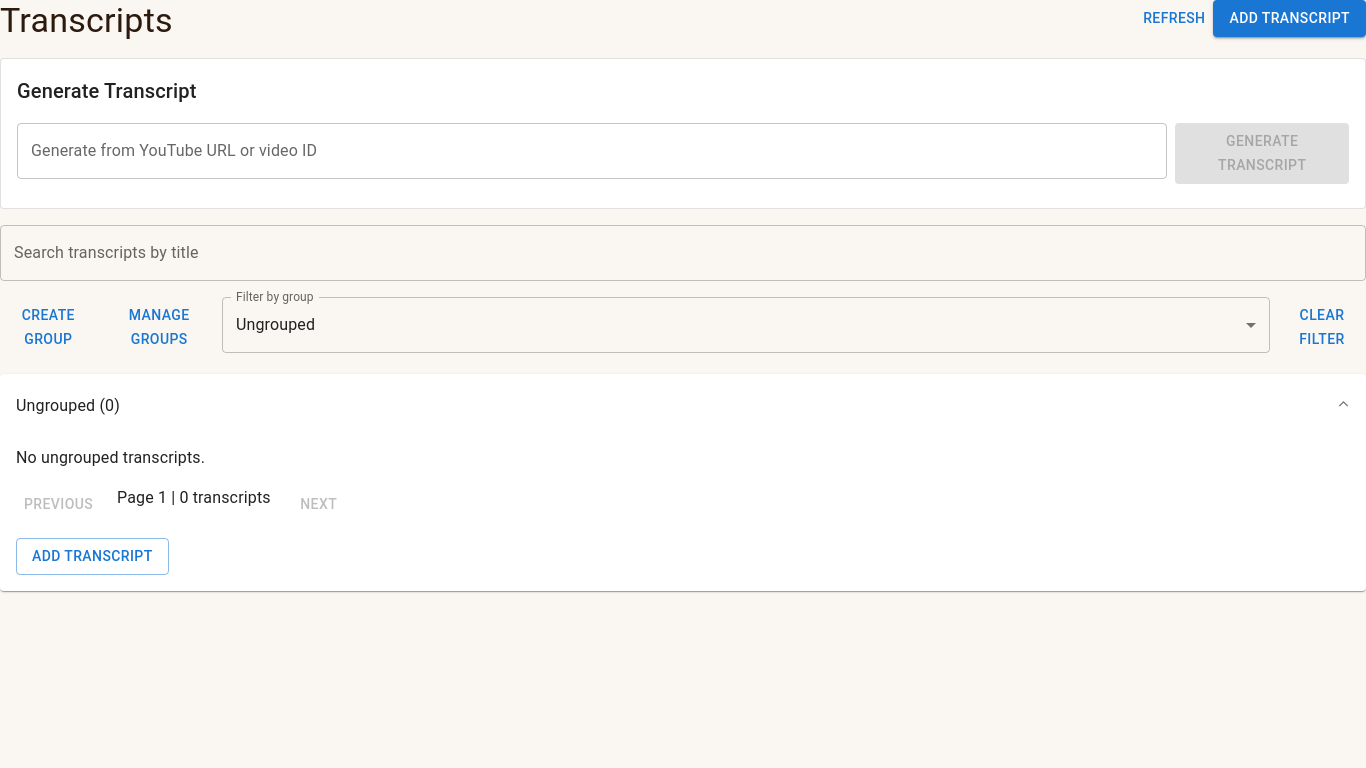
Test: places duration formats below the input and exposes help by tap
Step 1. Click the 1st button "Add Transcript" → click(1290, 18), box [1214, 0, 1365, 36]
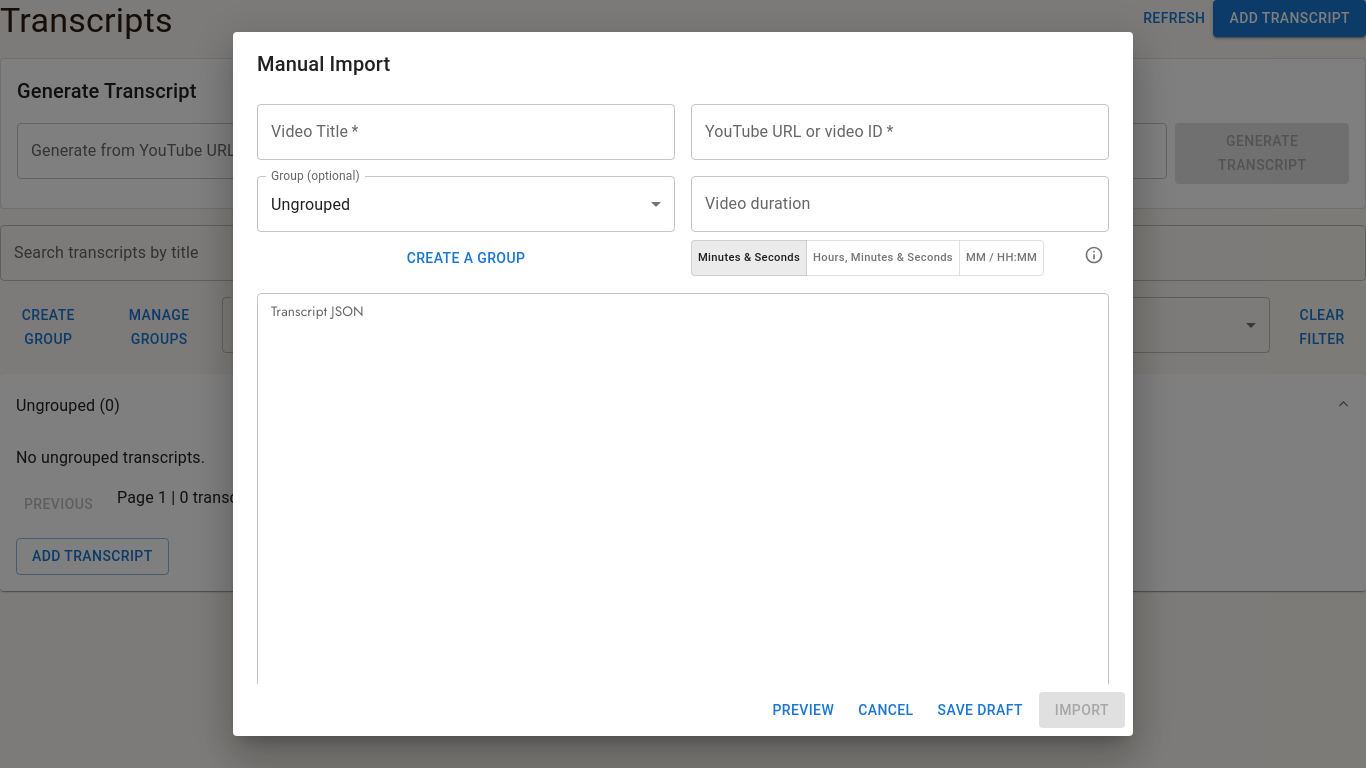
Step 2. Click the button named "Video duration information" → click(1094, 255), box [1079, 240, 1109, 270]
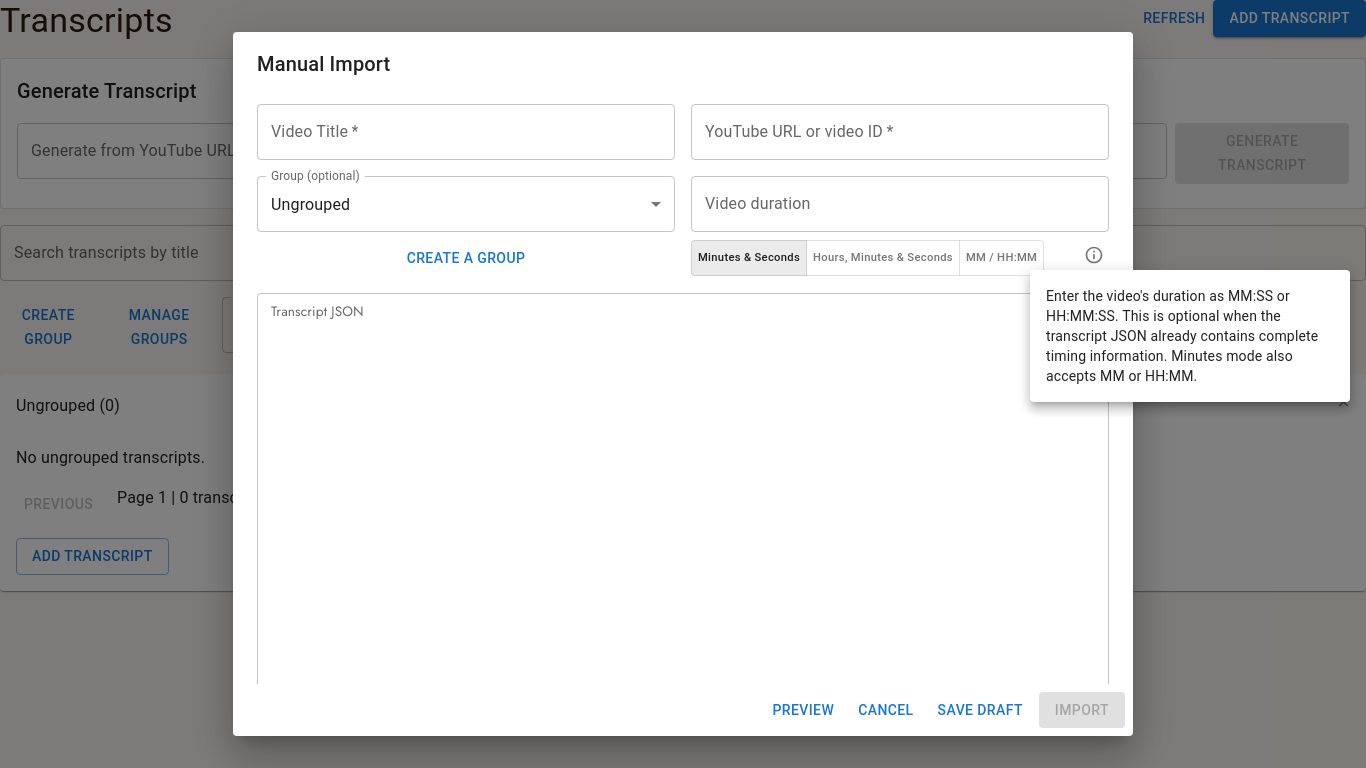
Result: the text "MM:SS or HH:MM:SS" is shown at [1046, 288, 1318, 384]
Result: the text "optional when the transcript JSON already contains complete timing information" is shown at [1046, 288, 1318, 384]
